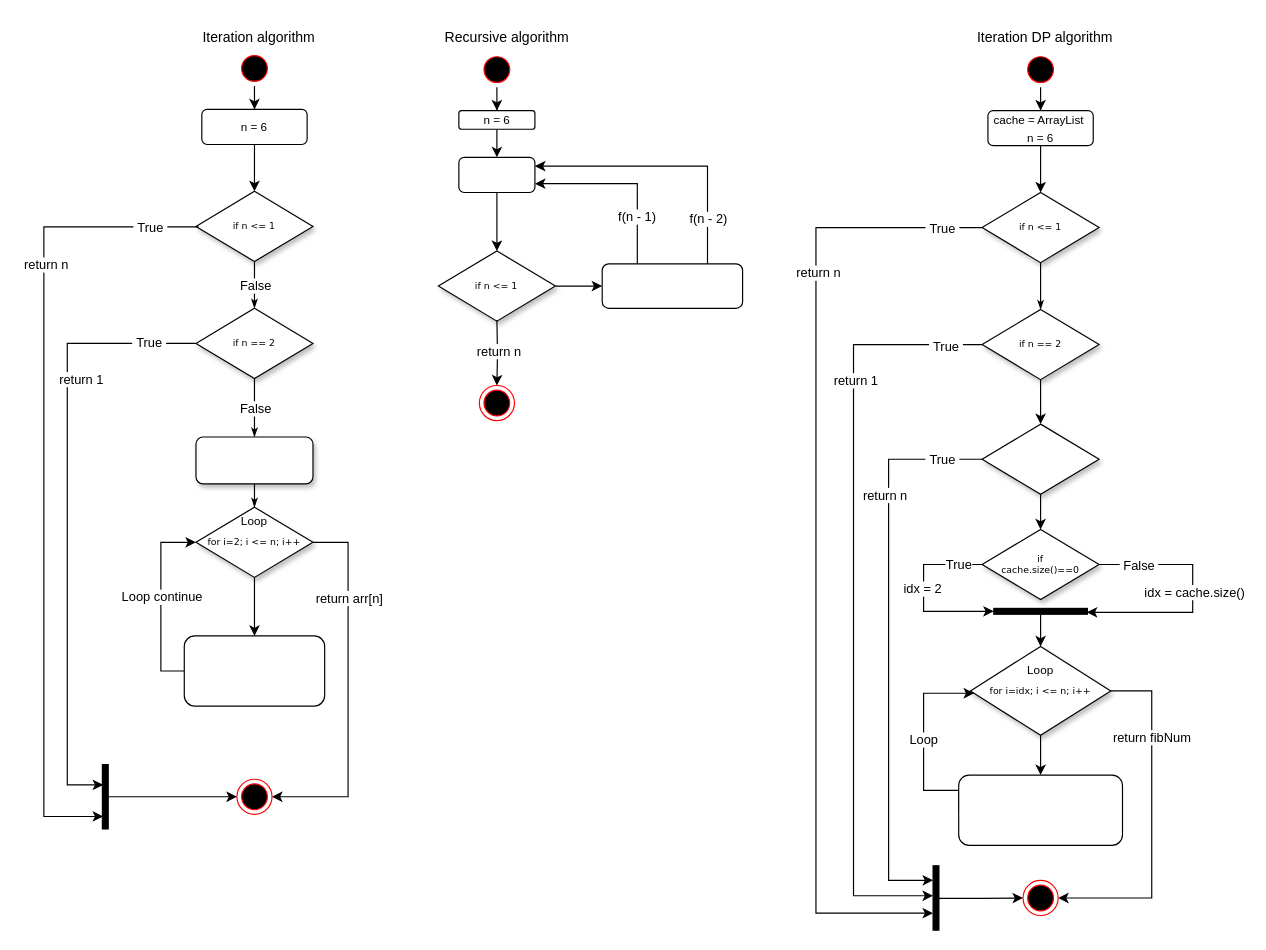
This 1266x950 diagram has some shape labels left out. The shapes that lost their labels are listed below. From the top down, each one's centre as x and y in pixels, then its label:
At (x=496, y=174): "f(n)".
At (x=672, y=285): "recursive call f(n - 1) + f(n - 2)".
At (x=255, y=461): "Create arr arr[0] = 0 arr[1] = 1".
At (x=1041, y=460): "if cache contains n cache.get(n)".
At (x=254, y=670): "arr[i] = arr[i-1] + arr[i -2 ]".
At (x=1040, y=809): "fibNum = cache.get(i-1)+cache.get(i-2)".
